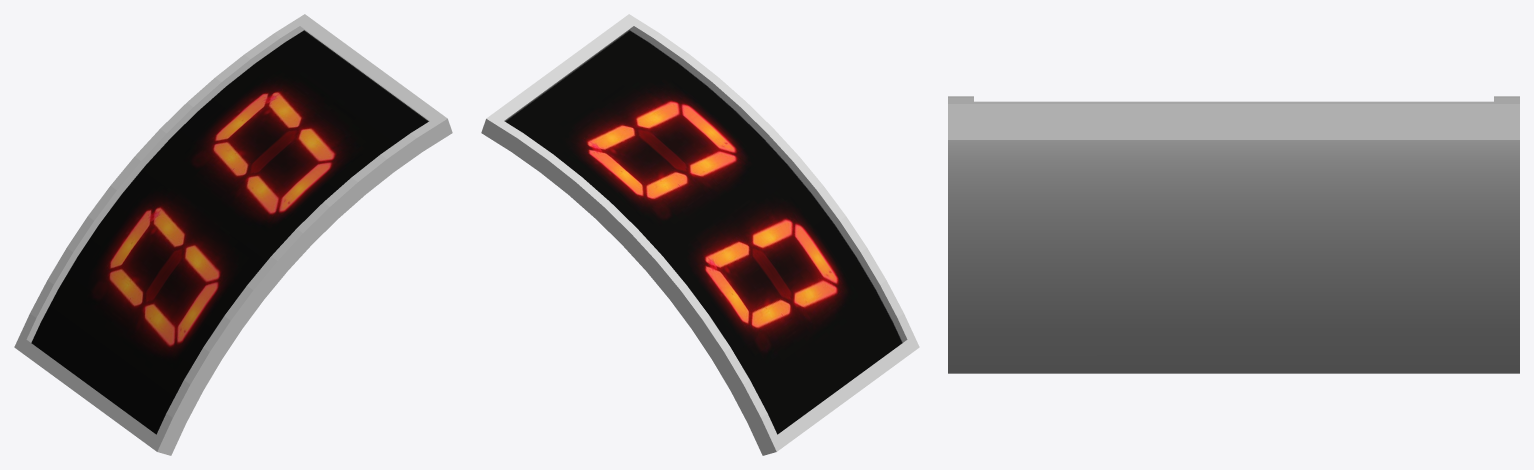
Rendered from LCd.FBX.
3 renders of one model, left to right at view 1: azimuth 30°, elevation 25°; view 2: azimuth 150°, elevation 25°; view 3: azimuth 270°, elevation 25°, orthographic. The views are drawn at different scales.
Parts seen in each view (by area): view 1: Box001; view 2: Box001; view 3: Box001.
Part boxes in pixels (bbox=[...]): Box001: bbox=[14, 14, 452, 455]; Box001: bbox=[481, 14, 919, 455]; Box001: bbox=[948, 96, 1519, 373].
Bounding box in the file's own units: 19.78 × 17.26 × 16.57.
Materials: 1 (1 with a texture image).
